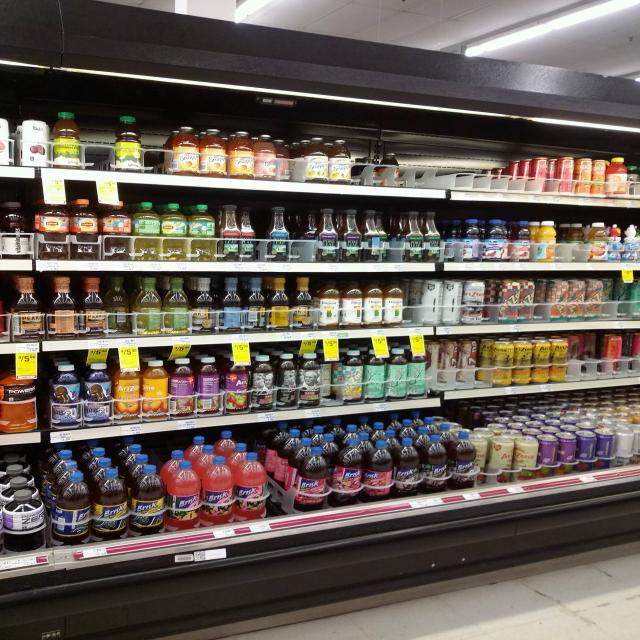empty: (406, 141, 524, 191), (261, 430, 303, 525), (81, 110, 120, 177), (141, 118, 172, 177), (397, 277, 429, 325), (289, 208, 314, 268), (439, 210, 467, 261)
